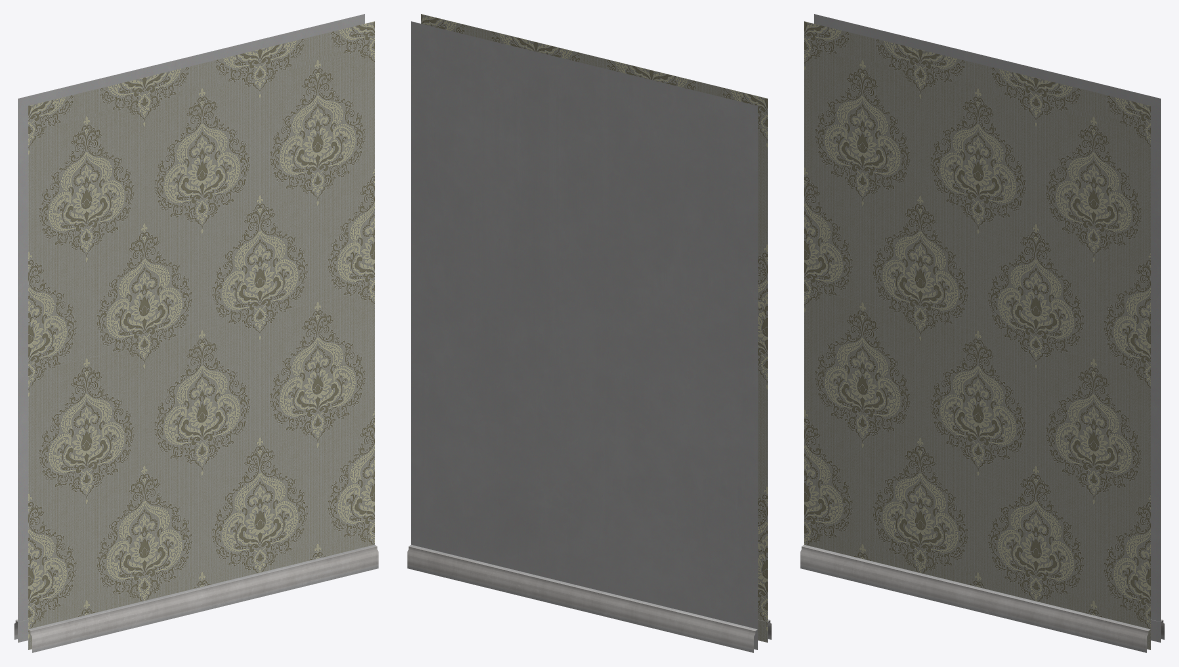
The model's file is Inner_Wall_02.fbx.
The picture shows the model from 3 angles, left to right: view 1: azimuth 30°, elevation 25°; view 2: azimuth 150°, elevation 25°; view 3: azimuth 330°, elevation 25°; orthographic projection.
Visible parts, largest first — view 1: Inner_Wall_02; view 2: Inner_Wall_02; view 3: Inner_Wall_02.
Part boxes in pixels (x1,y1,x2,y2): Inner_Wall_02: (14,14,378,652); Inner_Wall_02: (407,14,771,652); Inner_Wall_02: (800,14,1164,652).
Size of the model in its own units: 200 by 300 by 17.86.
